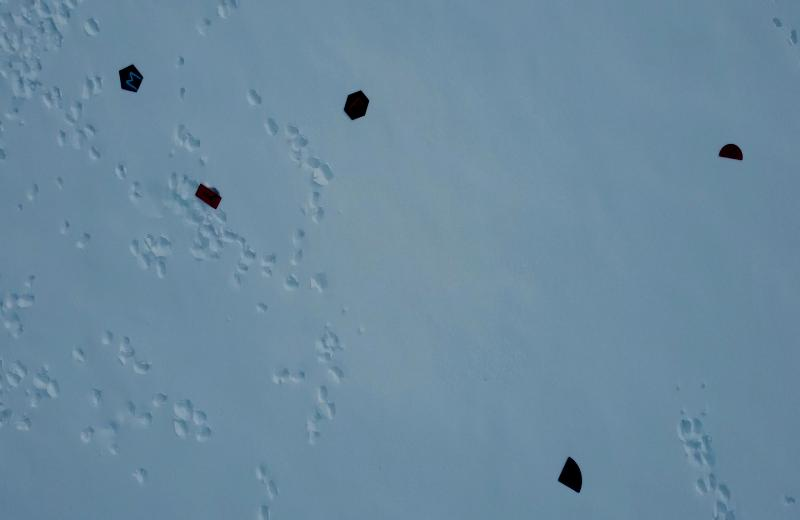Hexagon: (343, 90, 371, 120)
Pentagon: (116, 60, 144, 98)
Quarter Circle: (556, 454, 583, 497)
Rectangle: (192, 180, 226, 214)
Semi Circle: (715, 141, 743, 164)
